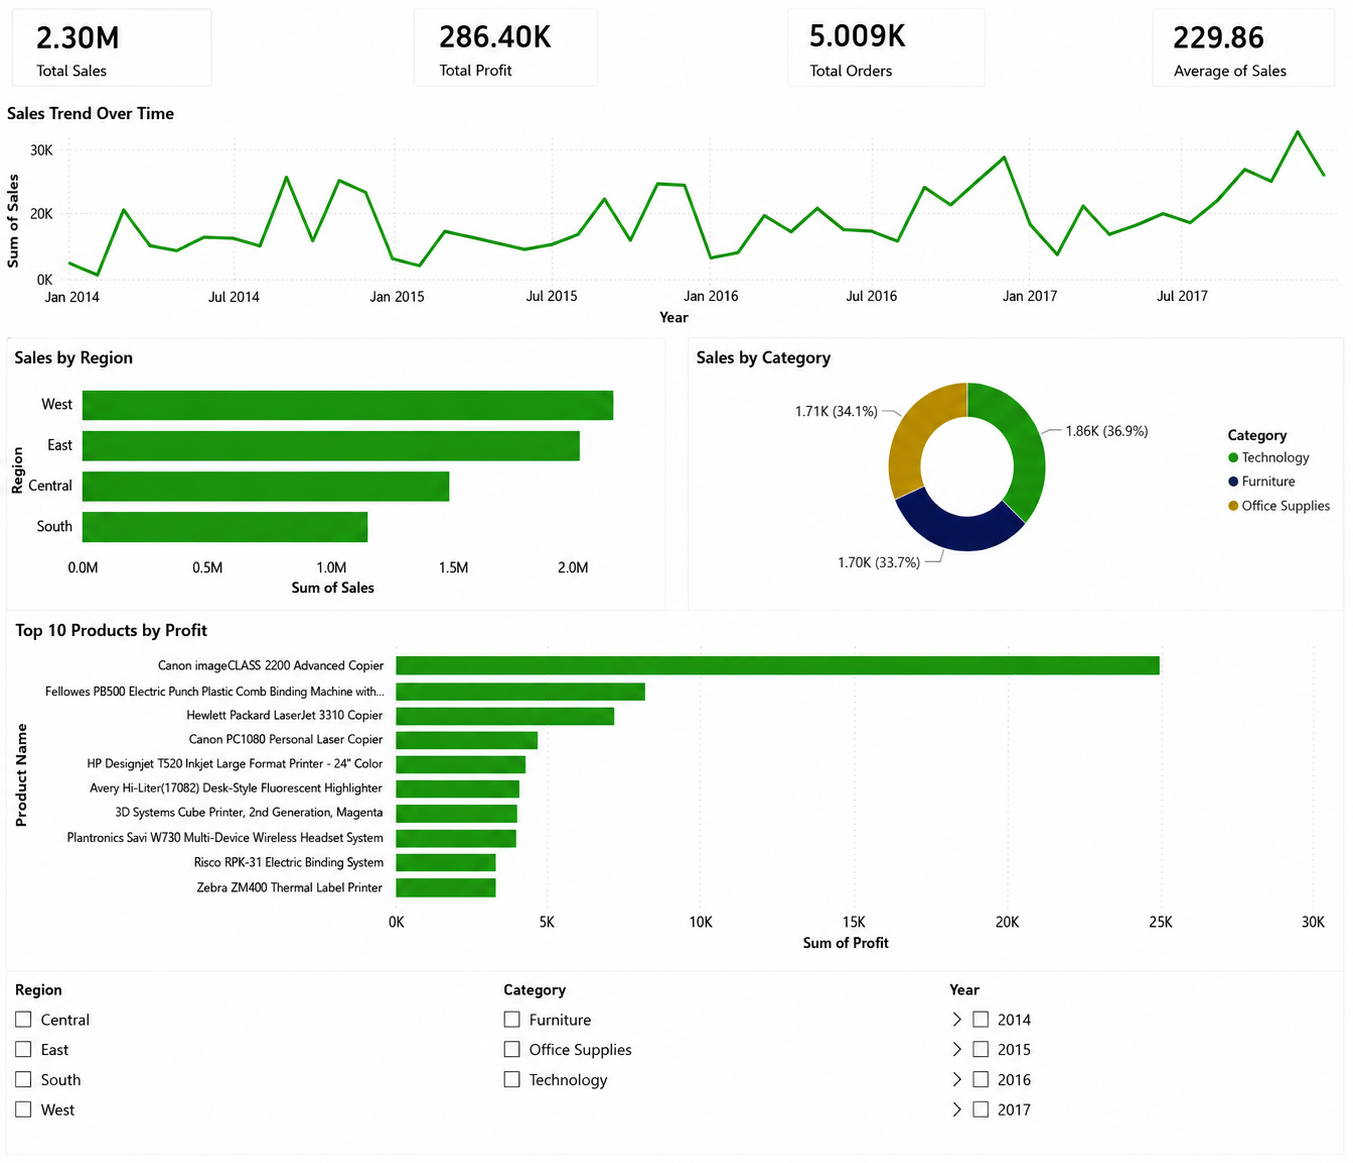

Layout of this report page (visuals, bound fields, positions):
{"tool":"powerbi","page":{"name":"Page 1","canvas":[1500,1300],"ordinal":0},"visuals":[{"type":"cardVisual","fields":{"Data":["Sum(Cleaned_superstore.Sales)"]},"box":[3.5,3.5,235.4,109.9],"z":0},{"type":"cardVisual","fields":{"Data":["Sum(Cleaned_superstore.Profit)"]},"box":[458.3,4.5,210.2,111.8],"z":1000},{"type":"cardVisual","fields":{"Data":["Avg(Cleaned_superstore.Sales)"]},"box":[1301.2,4.5,199,111.8],"z":2000},{"type":"cardVisual","fields":{"Data":["Count(Cleaned_superstore.Order ID)"]},"box":[894.3,2.2,232.5,111.8],"z":3000},{"type":"clusteredBarChart","title":"Sales by Region","fields":{"Category":["Cleaned_superstore.Region"],"Y":["Sum(Cleaned_superstore.Sales)"]},"box":[0,399,747.8,251],"z":4000},{"type":"lineChart","title":"Sales Trend Over Time","fields":{"Y":["Sum(Cleaned_superstore.Sales)"],"Category":["Cleaned_superstore.Order Date.Variation.Date Hierarchy.Year","Cleaned_superstore.Order Date.Variation.Date Hierarchy.Month"]},"box":[0,134.8,1500.8,229.9],"z":5000},{"type":"donutChart","title":"Sales by Category","fields":{"Category":["Cleaned_superstore.Category"],"Y":["Sum(Cleaned_superstore.Sales)"]},"box":[750.4,399,750.4,251],"z":6000},{"type":"clusteredBarChart","title":"Top 10 Products by Profit","fields":{"Category":["Cleaned_superstore.Product Name"],"Y":["Sum(Cleaned_superstore.Profit)"]},"box":[0,650,1500.8,401.6],"z":7000},{"type":"listSlicer","fields":{"Values":["Cleaned_superstore.Category"]},"box":[517.9,1072.8,459.8,227.2],"z":8000},{"type":"listSlicer","fields":{"Values":["Cleaned_superstore.Region"]},"box":[0,1072.8,459.8,227.2],"z":9000},{"type":"listSlicer","fields":{"Values":["Cleaned_superstore.Order Date.Variation.Date Hierarchy.Year","Cleaned_superstore.Order Date.Variation.Date Hierarchy.Month"]},"box":[1038.4,1072.8,459.8,227.2],"z":10000}]}

Visuals, with their boxes in screenshot pixels (x1, y1, x2, y2), scaled from the page's 1500x1300 canvas onto the 1353x1163 screenshot:
cardVisual - Sum(Cleaned_superstore.Sales): left=3, top=3, right=215, bottom=101
cardVisual - Sum(Cleaned_superstore.Profit): left=413, top=4, right=603, bottom=104
cardVisual - Avg(Cleaned_superstore.Sales): left=1174, top=4, right=1352, bottom=104
cardVisual - Count(Cleaned_superstore.Order ID): left=807, top=2, right=1016, bottom=102
"Sales by Region" clusteredBarChart: left=0, top=357, right=675, bottom=582
"Sales Trend Over Time" lineChart: left=0, top=121, right=1352, bottom=326
"Sales by Category" donutChart: left=677, top=357, right=1352, bottom=582
"Top 10 Products by Profit" clusteredBarChart: left=0, top=582, right=1352, bottom=941
listSlicer - Cleaned_superstore.Category: left=467, top=960, right=882, bottom=1162
listSlicer - Cleaned_superstore.Region: left=0, top=960, right=415, bottom=1162
listSlicer - Cleaned_superstore.Order Date.Variation.Date Hierarchy.Year x Cleaned_superstore.Order Date.Variation.Date Hierarchy.Month: left=937, top=960, right=1351, bottom=1162
